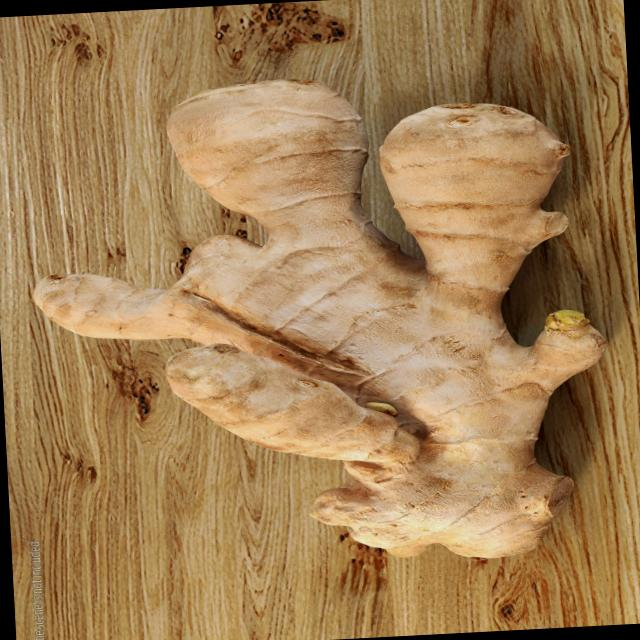lemon: (19, 48, 633, 584)
